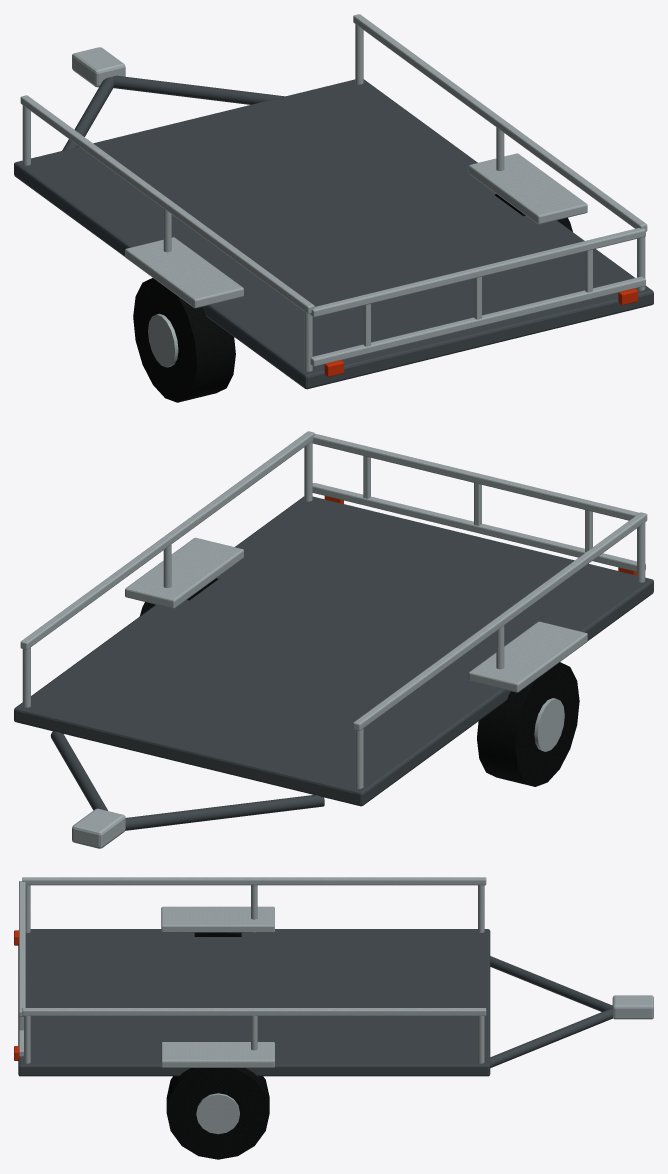
Rendered from UtilityTrailer.gltf.
3 views of the same model, one above another, from view 1: azimuth 30°, elevation 25°; view 2: azimuth 150°, elevation 25°; view 3: azimuth 270°, elevation 25° (orthographic). The views are drawn at different scales.
Visible parts, largest first — view 1: UtilityTrailer__Body; view 2: UtilityTrailer__Body; view 3: UtilityTrailer__Body.
Boxes of the visible parts, x1,y1,x2,y2 form: UtilityTrailer__Body: [14, 14, 653, 402]; UtilityTrailer__Body: [14, 431, 653, 848]; UtilityTrailer__Body: [14, 877, 653, 1159].
Bounding box in the file's own units: 1.99 × 0.8442 × 3.47.
2 materials, 1 textured.
